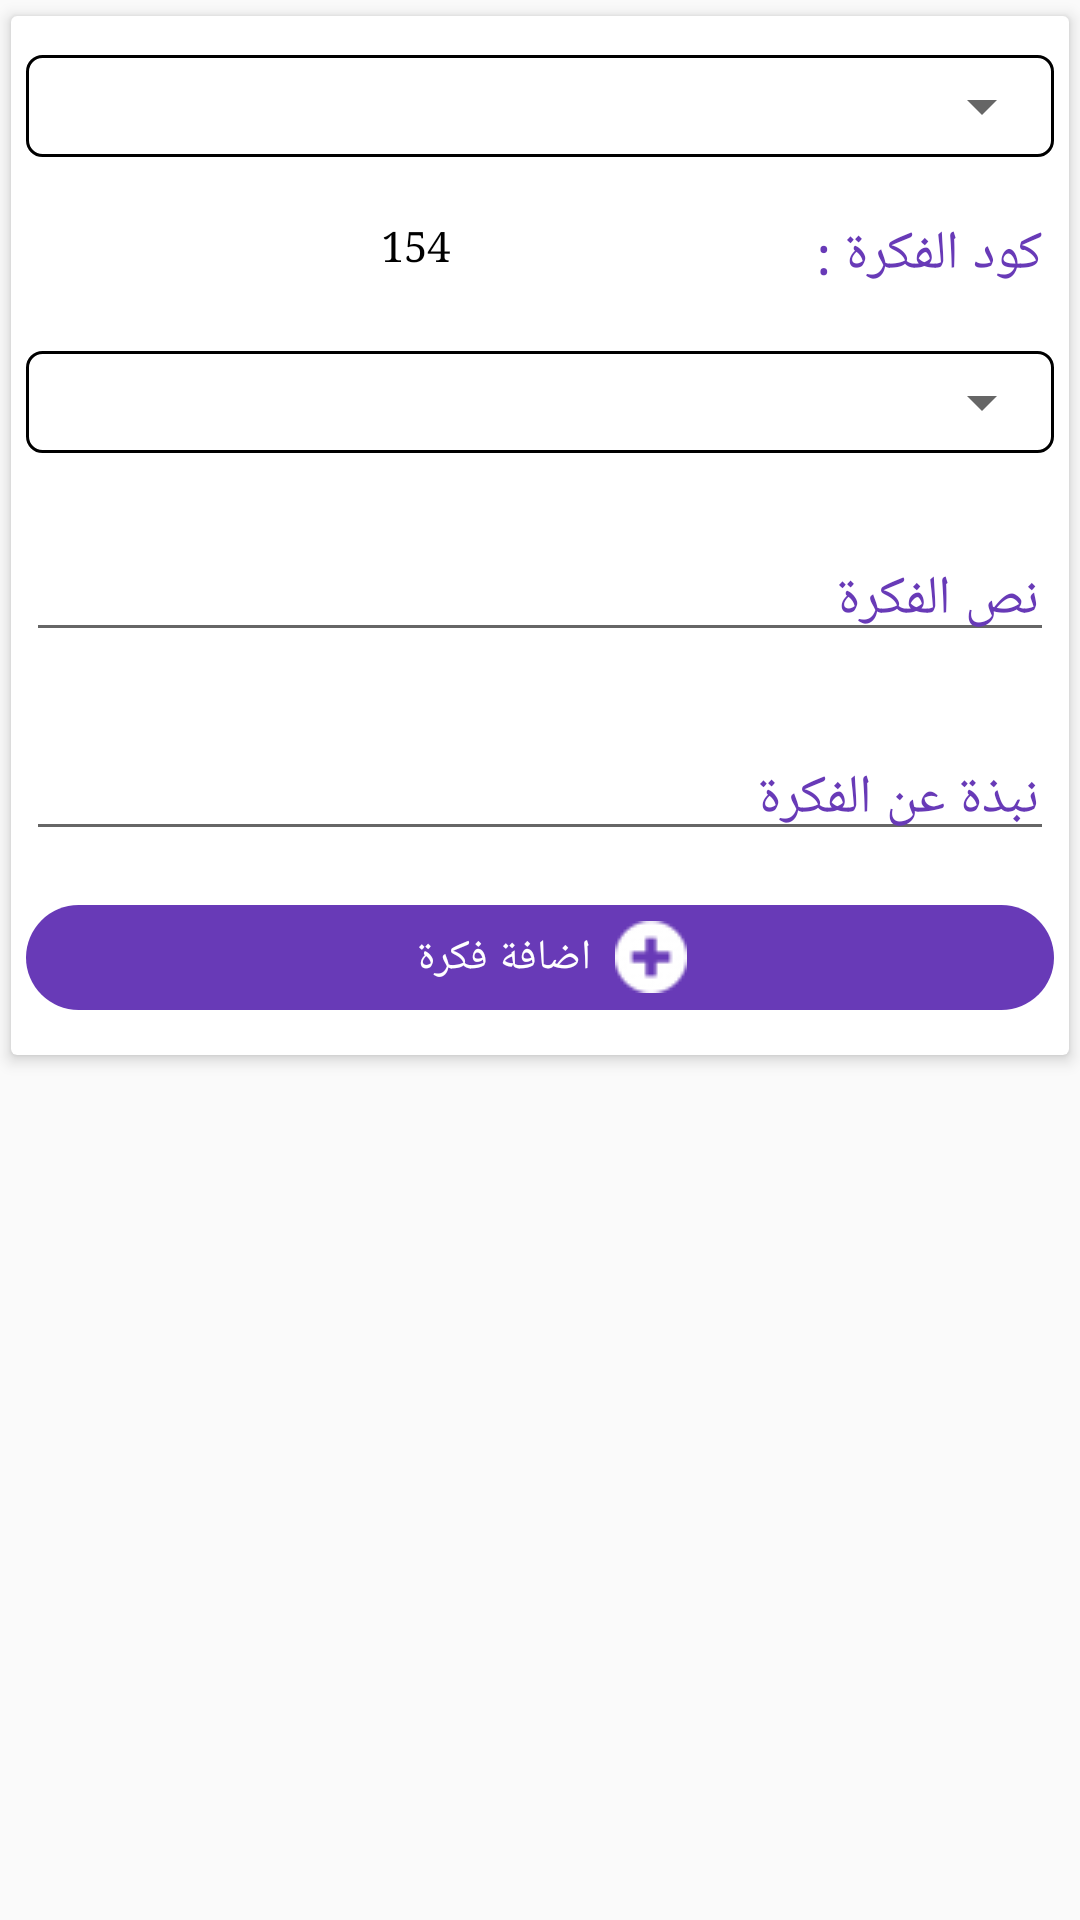

Named icons in this screenshot (1080×1920) and their bounding boxes, bbox=(x1, y1, x2, y2):
plus: bbox=(615, 921, 687, 993)
